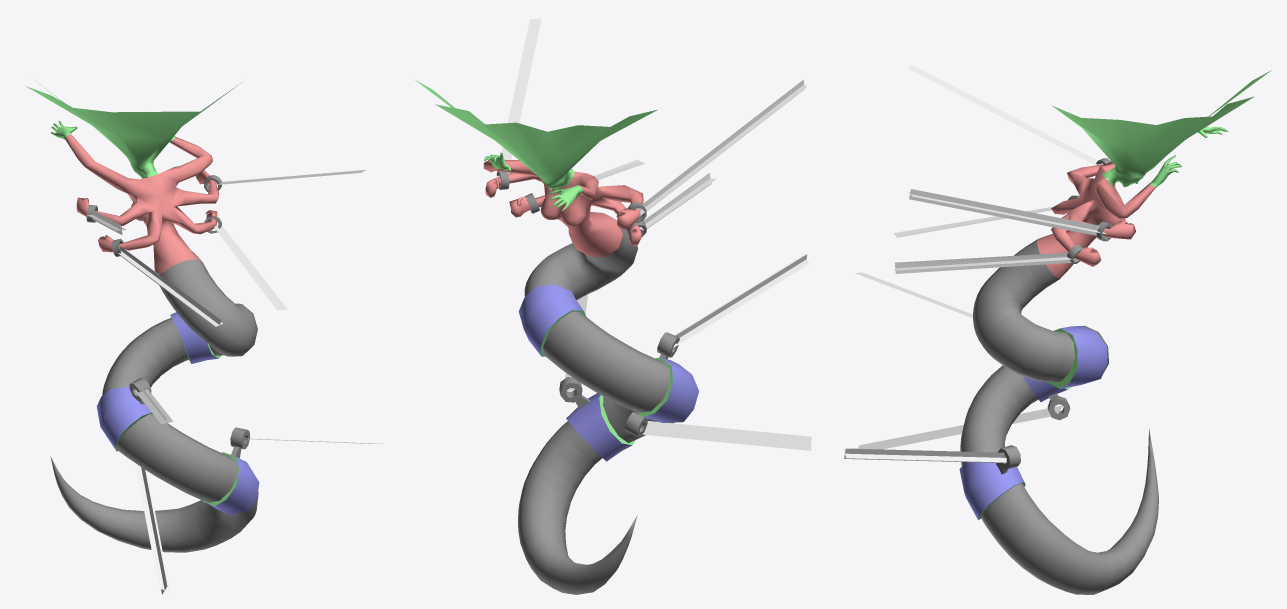
The model's file is silen_statue.gltf.
3 renders of one model, left to right at view 1: azimuth 30°, elevation 25°; view 2: azimuth 150°, elevation 25°; view 3: azimuth 270°, elevation 25°, orthographic. The views are drawn at different scales.
Visible parts, largest first — view 1: silen_statue; view 2: silen_statue; view 3: silen_statue.
Part boxes in pixels (x1=…): silen_statue: x1=25, y1=81, x2=382, y2=594; silen_statue: x1=414, y1=18, x2=811, y2=594; silen_statue: x1=843, y1=65, x2=1271, y2=594.
Bounding box in the file's own units: 10.03 × 18.21 × 13.84.
